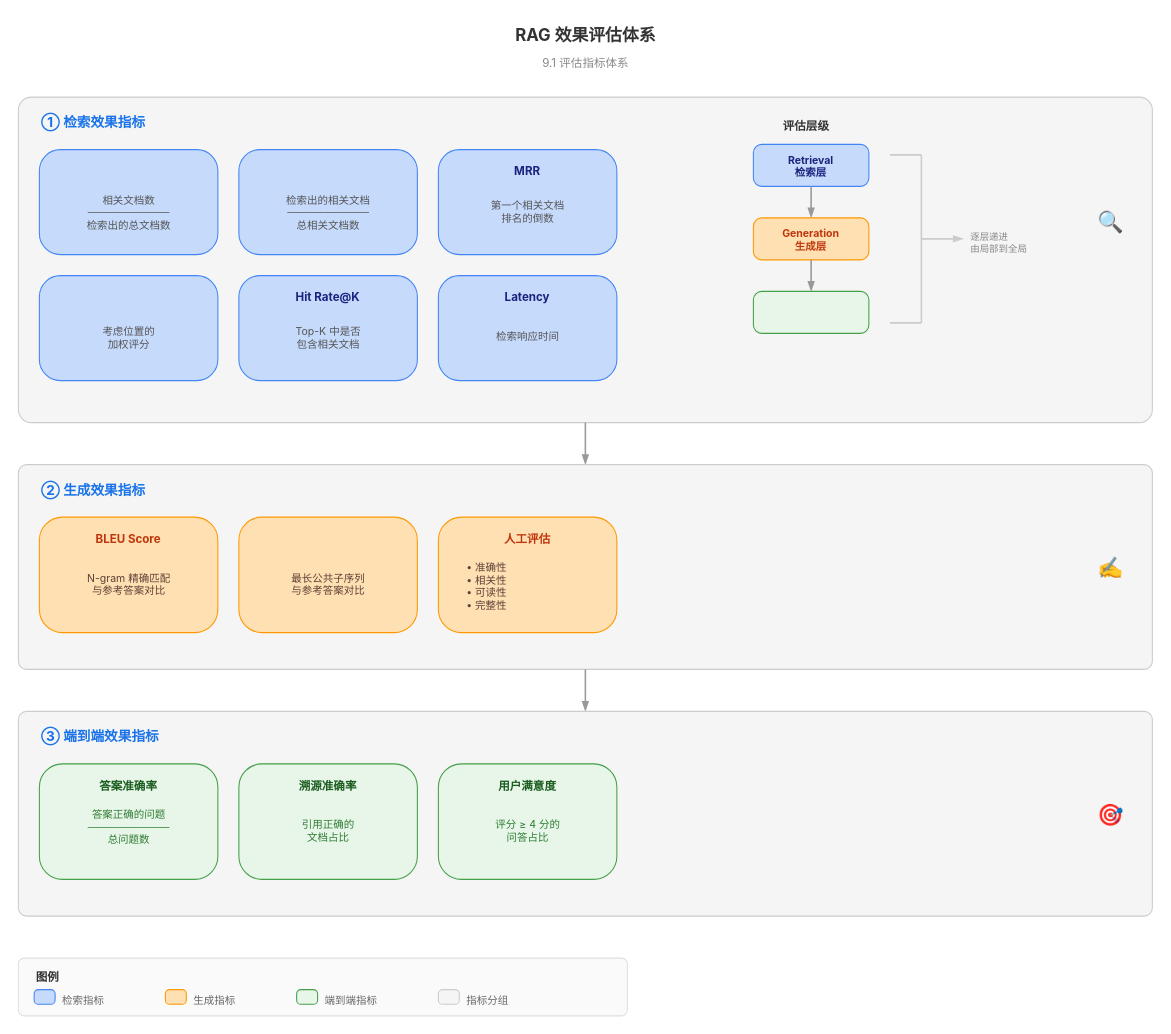
This 1171x1034 diagram has some shape labels left out. The box of each missing label's shape, as (x1, y1, x2, y2) in pixels:
End-to-End 端到端: (752, 290, 869, 333)
NDCG@K: (38, 275, 218, 381)
ROUGE Score: (238, 516, 417, 633)
准确率 Precision: (38, 149, 218, 255)
召回率 Recall: (238, 149, 417, 255)
